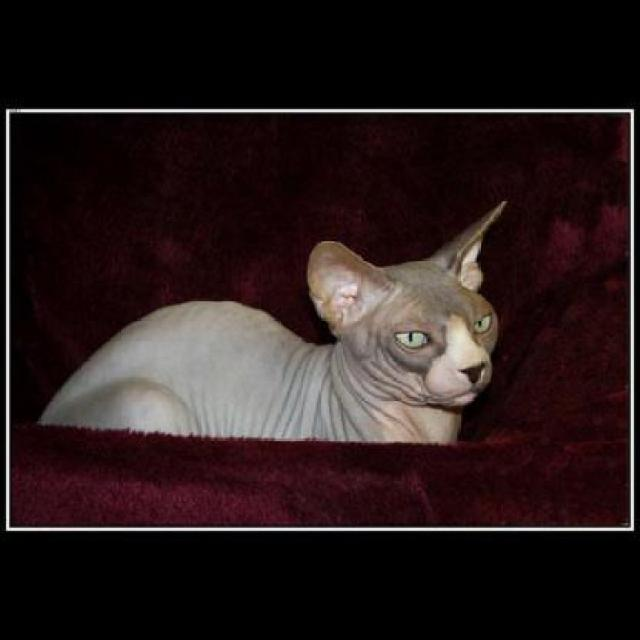unauthorized: (35, 197, 508, 445)
